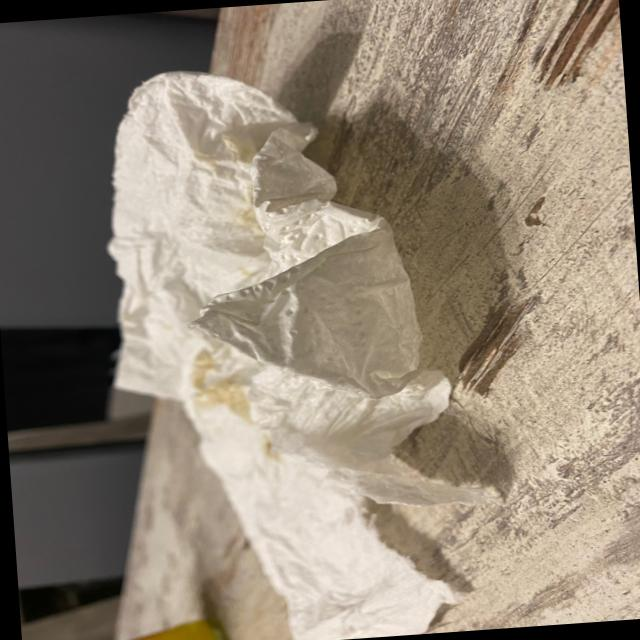organic waste: (89, 49, 497, 640)
